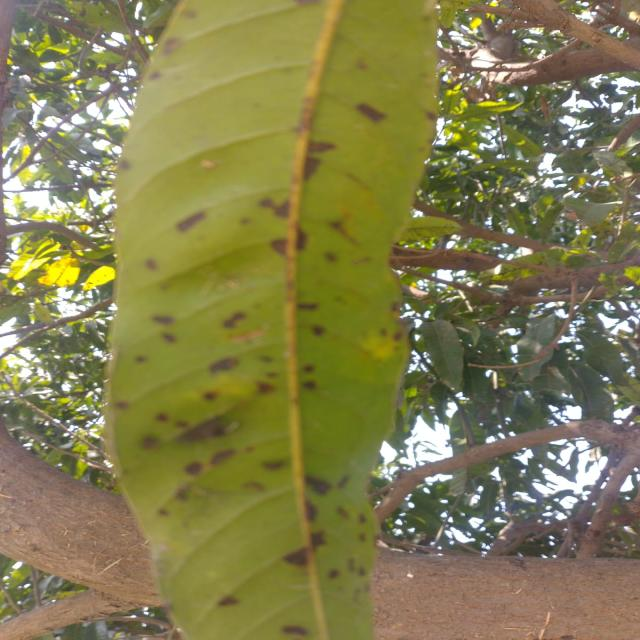Anthracnose: (142, 419, 275, 470), (288, 472, 337, 567), (251, 195, 316, 260), (297, 139, 340, 184), (144, 311, 186, 345), (350, 102, 400, 122), (171, 211, 209, 235), (201, 360, 243, 376), (210, 591, 240, 610), (217, 311, 249, 328)
